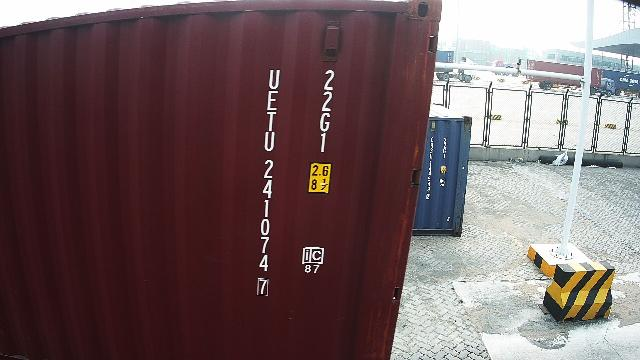0: (260, 218, 270, 236)
1: (262, 198, 270, 218)
2: (264, 159, 274, 179)
4: (262, 180, 272, 198), (260, 254, 268, 272)
7: (258, 278, 268, 296), (260, 236, 270, 254)
8: (441, 163, 447, 173)
E: (266, 90, 280, 110)
T: (266, 111, 276, 131)
U: (269, 68, 281, 90), (264, 132, 276, 152)
